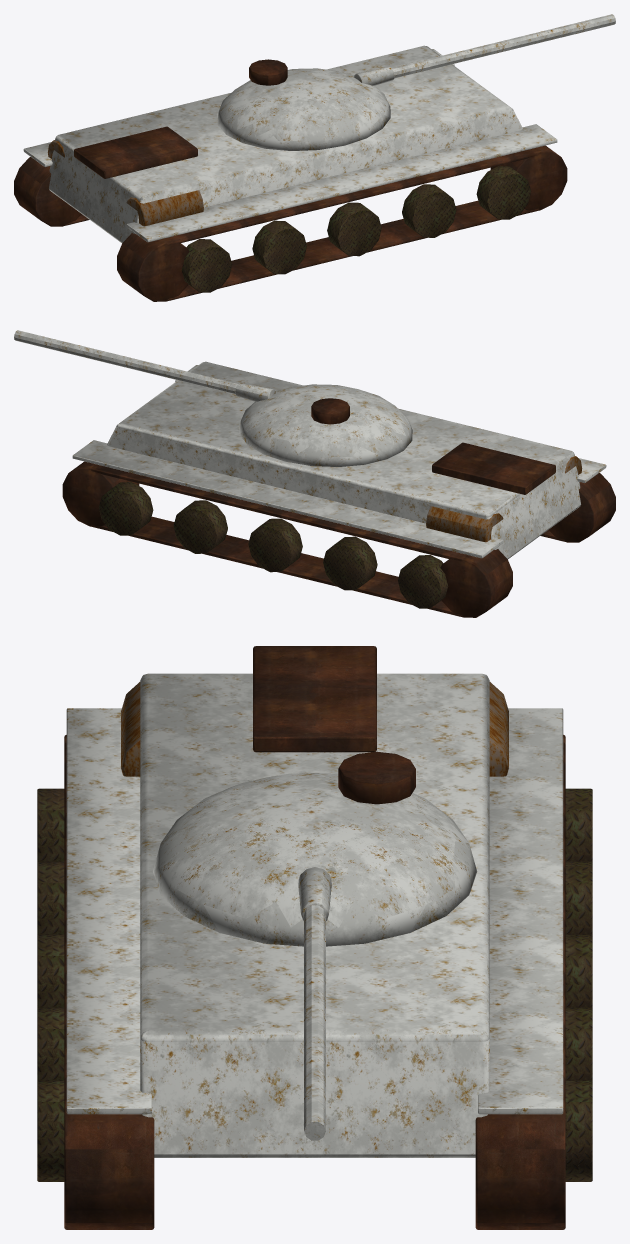
The model's file is veh_tank.gltf.
The picture shows the model from 3 angles, top to bottom: view 1: azimuth 30°, elevation 25°; view 2: azimuth 150°, elevation 25°; view 3: azimuth 270°, elevation 25°; orthographic projection. The views are drawn at different scales.
Visible parts, largest first — view 1: box.004, blob, box.005, box, box.007, cyl, box.001, cyl.017, cyl.007, cyl.001, cyl.004, cyl.003 (+7 smaller); view 2: box.004, blob, box.006, box.002, box.007, cyl.007, box.003, cyl.017, cyl, cyl.008, cyl.011, cyl.010 (+7 smaller); view 3: box.004, blob, box.006, box.005, box.007, cyl.001, cyl.008, cyl.017, cyl.018, cyl.006, cyl.013, cyl.004 (+12 smaller).
Part boxes in pixels (left/top/right/bottom): box.004: left=49, top=45, right=522, bottom=243; blob: left=217, top=68, right=390, bottom=150; box.005: left=126, top=124, right=557, bottom=242; box: left=167, top=200, right=538, bottom=300; box.007: left=74, top=126, right=197, bottom=178; cyl: left=117, top=233, right=189, bottom=301; box.001: left=162, top=148, right=538, bottom=245; cyl.017: left=392, top=14, right=615, bottom=78; cyl.007: left=14, top=157, right=81, bottom=226; cyl.001: left=490, top=145, right=567, bottom=210; cyl.004: left=327, top=202, right=381, bottom=256; cyl.003: left=252, top=220, right=306, bottom=274; box.004: left=107, top=361, right=580, bottom=559; blob: left=239, top=384, right=412, bottom=466; box.006: left=72, top=440, right=503, bottom=558; box.002: left=91, top=516, right=462, bottom=616; box.007: left=432, top=442, right=555, bottom=494; cyl.007: left=440, top=549, right=512, bottom=617; box.003: left=91, top=464, right=467, bottom=561; cyl.017: left=14, top=330, right=237, bottom=394; cyl: left=548, top=473, right=615, bottom=542; cyl.008: left=62, top=461, right=139, bottom=526; cyl.011: left=248, top=518, right=302, bottom=572; cyl.010: left=323, top=536, right=377, bottom=590; box.004: left=140, top=673, right=489, bottom=1157; blob: left=152, top=773, right=477, bottom=946; box.006: left=478, top=708, right=563, bottom=1114; box.005: left=66, top=708, right=151, bottom=1114; box.007: left=253, top=646, right=376, bottom=752; cyl.001: left=64, top=1105, right=154, bottom=1229; cyl.008: left=475, top=1105, right=565, bottom=1229; cyl.017: left=304, top=905, right=325, bottom=1140; cyl.018: left=338, top=751, right=415, bottom=804; cyl.006: left=37, top=1080, right=64, bottom=1181; cyl.013: left=565, top=1080, right=592, bottom=1181; cyl.004: left=37, top=934, right=64, bottom=1008.
Bounding box in the file's own units: 7.99 × 1.9 × 3.58.
4 materials, 4 textured.
